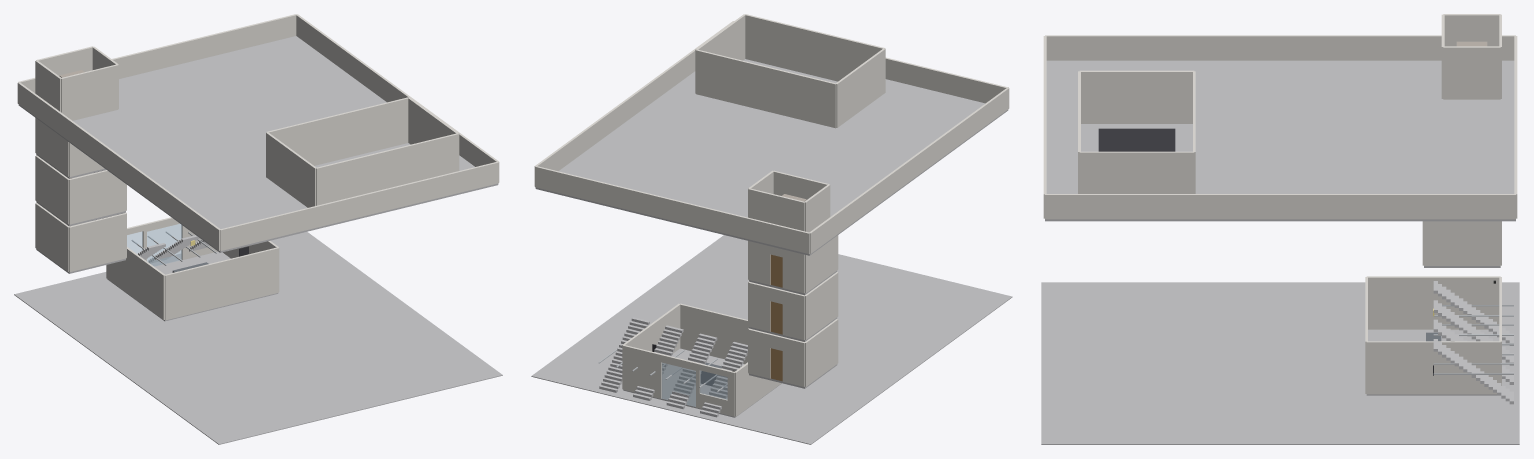
The model's file is building.gltf.
The picture shows the model from 3 angles, left to right: view 1: azimuth 30°, elevation 25°; view 2: azimuth 150°, elevation 25°; view 3: azimuth 270°, elevation 25°; orthographic projection. The views are drawn at different scales.
Parts seen in each view (by area): view 1: SITE|GROUND|plane|0, FLOOR|F4|slab|0, WALL|F4|parapet|wS_seg0, WALL|F4|solar|wS_seg0, WALL|F4|solar|wN_seg0, WALL|F0|lobby|wS_seg0, WALL|F4|parapet|wW_seg0, WALL|F4|parapet|wN_seg0, WALL|F4|parapet|wE_seg0, WALL|F1|م_وحمام_2×|wS_seg0, WALL|F4|tanks|wS_seg0, WALL|F2|م_وحمام_2×|wS_seg0 (+11 smaller); view 2: FLOOR|F4|slab|0, SITE|GROUND|plane|0, WALL|F4|solar|wN_seg0, WALL|F4|parapet|wN_seg0, WALL|F4|solar|wS_seg0, WALL|F4|parapet|wW_seg0, WALL|F4|parapet|wE_seg0, WALL|F4|parapet|wS_seg0, WALL|F0|lobby|wS_seg0, WALL|F4|solar|wW_seg0, WALL|F4|tanks|wN_seg0, WALL|F0|lobby|wN_seg5 (+17 smaller); view 3: SITE|GROUND|plane|0, FLOOR|F4|slab|0, WALL|F4|parapet|wE_seg0, WALL|F4|parapet|wW_seg0, WALL|F0|lobby|wE_seg0, WALL|F4|solar|wW_seg0, WALL|F0|lobby|wW_seg0, WALL|F4|solar|wE_seg0, WALL|F1|م_وحمام_2×|wE_seg0, WALL|F4|tanks|wE_seg0, FURN|F4|solar|panel0, WALL|F4|tanks|wW_seg0 (+3 smaller).
Part boxes in pixels (left/top/right/bottom): SITE|GROUND|plane|0: left=14, top=232, right=502, bottom=444; FLOOR|F4|slab|0: left=18, top=36, right=498, bottom=252; WALL|F4|parapet|wS_seg0: left=220, top=161, right=498, bottom=250; WALL|F4|solar|wS_seg0: left=316, top=133, right=458, bottom=205; WALL|F4|solar|wN_seg0: left=266, top=97, right=408, bottom=165; WALL|F0|lobby|wS_seg0: left=165, top=247, right=278, bottom=320; WALL|F4|parapet|wW_seg0: left=17, top=82, right=220, bottom=250; WALL|F4|parapet|wN_seg0: left=18, top=14, right=296, bottom=92; WALL|F4|parapet|wE_seg0: left=296, top=14, right=499, bottom=182; WALL|F1|م_وحمام_2×|wS_seg0: left=69, top=213, right=126, bottom=271; WALL|F4|tanks|wS_seg0: left=60, top=64, right=118, bottom=120; WALL|F2|م_وحمام_2×|wS_seg0: left=69, top=170, right=126, bottom=224; FLOOR|F4|slab|0: left=535, top=59, right=1008, bottom=255; SITE|GROUND|plane|0: left=531, top=235, right=1012, bottom=444; WALL|F4|solar|wN_seg0: left=696, top=49, right=836, bottom=128; WALL|F4|parapet|wN_seg0: left=535, top=166, right=809, bottom=253; WALL|F4|solar|wS_seg0: left=744, top=14, right=885, bottom=81; WALL|F4|parapet|wW_seg0: left=809, top=87, right=1009, bottom=253; WALL|F4|parapet|wE_seg0: left=534, top=21, right=733, bottom=186; WALL|F4|parapet|wS_seg0: left=885, top=57, right=1008, bottom=103; WALL|F0|lobby|wS_seg0: left=680, top=303, right=748, bottom=364; WALL|F4|solar|wW_seg0: left=835, top=48, right=885, bottom=127; WALL|F4|tanks|wN_seg0: left=748, top=188, right=804, bottom=231; WALL|F0|lobby|wN_seg5: left=622, top=345, right=661, bottom=398; SITE|GROUND|plane|0: left=1041, top=282, right=1519, bottom=444; FLOOR|F4|slab|0: left=1045, top=60, right=1515, bottom=221; WALL|F4|parapet|wE_seg0: left=1045, top=194, right=1515, bottom=219; WALL|F4|parapet|wW_seg0: left=1045, top=35, right=1515, bottom=60; WALL|F0|lobby|wE_seg0: left=1366, top=341, right=1500, bottom=394; WALL|F4|solar|wW_seg0: left=1079, top=70, right=1194, bottom=123; WALL|F0|lobby|wW_seg0: left=1366, top=276, right=1500, bottom=329; WALL|F4|solar|wE_seg0: left=1079, top=151, right=1194, bottom=193; WALL|F1|م_وحمام_2×|wE_seg0: left=1424, top=221, right=1500, bottom=265; WALL|F4|tanks|wE_seg0: left=1443, top=46, right=1500, bottom=99; FURN|F4|solar|panel0: left=1098, top=128, right=1175, bottom=151; WALL|F4|tanks|wW_seg0: left=1443, top=14, right=1500, bottom=46.
Size of the model in its own units: 20 by 15.95 by 25.
